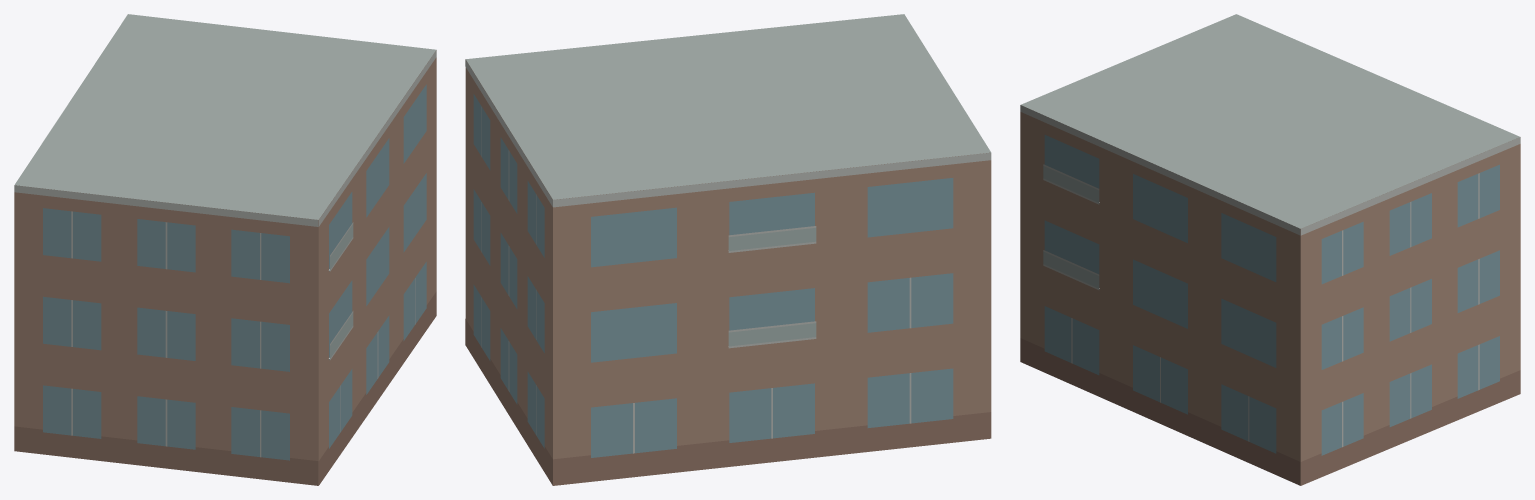
Rendered from survey-upis-32687672.glb.
3 renders of one model, left to right at view 1: azimuth 30°, elevation 25°; view 2: azimuth 150°, elevation 25°; view 3: azimuth 270°, elevation 25°, orthographic. The views are drawn at different scales.
Parts seen in each view (by area): view 1: survey-upis-32687672.tmp; view 2: survey-upis-32687672.tmp; view 3: survey-upis-32687672.tmp.
Part boxes in pixels (bbox=[...]): survey-upis-32687672.tmp: bbox=[14, 14, 436, 485]; survey-upis-32687672.tmp: bbox=[465, 14, 991, 485]; survey-upis-32687672.tmp: bbox=[1020, 14, 1520, 485].
Bounding box in the file's own units: 16.41 × 9.15 × 16.14.
